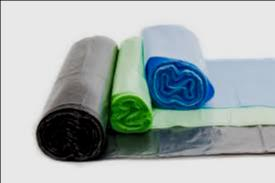Plastic: (35, 23, 274, 165)
